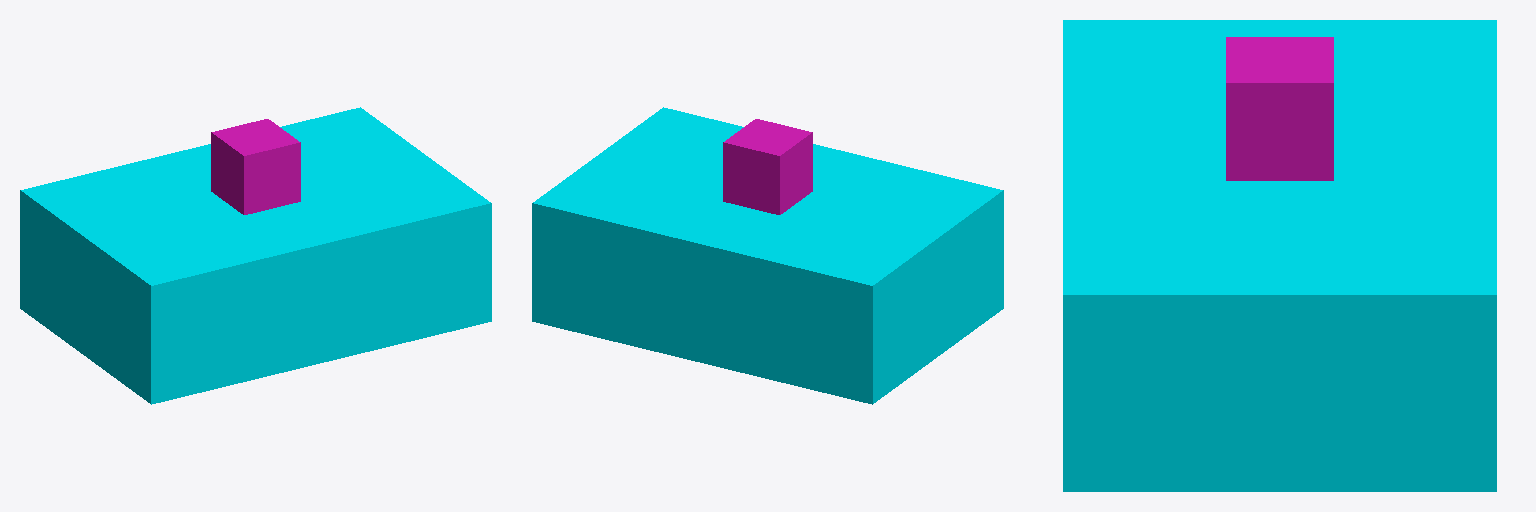
URDF robot description (daniela):
<?xml version="1.0"?>
<robot name="daniela">
  <link name="base_link">
    <visual>
      <geometry><box size="0.3 0.2 0.1"/></geometry>
      <material name="cyan">
        <color rgba="0 0.94 1.0 1.0"/>
      </material>
    </visual>
    <collision>
      <geometry><box size="0.3 0.2 0.1"/></geometry>
    </collision>
    <inertial>
      <mass value="1.0"/>
      <inertia ixx="0.01" ixy="0" ixz="0" iyy="0.01" iyz="0" izz="0.01"/>
    </inertial>
  </link>

  <link name="camera_link">
    <visual>
      <geometry><box size="0.05 0.05 0.05"/></geometry>
      <material name="magenta">
        <color rgba="0.88 0.14 0.76 1.0"/>
      </material>
    </visual>
  </link>

  <joint name="camera_joint" type="fixed">
    <parent link="base_link"/>
    <child link="camera_link"/>
    <origin xyz="0 0 0.075" rpy="0 0 0"/>
  </joint>
</robot>

--- Render facts (derived) ---
3 views of the same robot in one strip: view 1: azimuth 30°, elevation 25°; view 2: azimuth 150°, elevation 25°; view 3: azimuth 270°, elevation 25° (orthographic).
Robot: daniela — 2 links, 1 joints (1 fixed); root link base_link; default pose: all joints at 0.
Links seen in each view (by area): view 1: base_link, camera_link; view 2: base_link, camera_link; view 3: base_link, camera_link.
Link boxes in pixels (x1=…): base_link: x1=20, y1=107, x2=491, y2=404; camera_link: x1=211, y1=119, x2=300, y2=214; base_link: x1=532, y1=107, x2=1003, y2=404; camera_link: x1=723, y1=119, x2=812, y2=214; base_link: x1=1063, y1=20, x2=1496, y2=491; camera_link: x1=1226, y1=37, x2=1333, y2=180.
Bounding box of the posed robot: 0.3 × 0.2 × 0.15 m (x, y, z).
Geometry: primitives only (box / cylinder / sphere), no mesh files.
